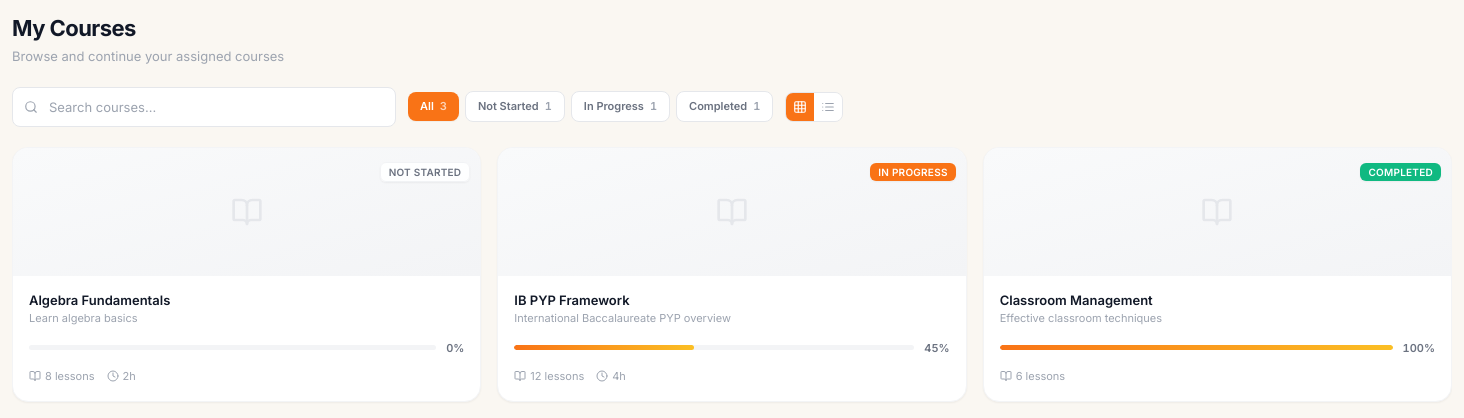
Test: MyCoursesPage › status filter buttons › shows only "Classroom Management" after clicking the Completed filter
The image size is (1464, 418).
Expected: the heading "Algebra Fundamentals" is shown, 29,292 -> 170,308
Click the button "Completed1": [725, 107] box 676,91 -> 773,122
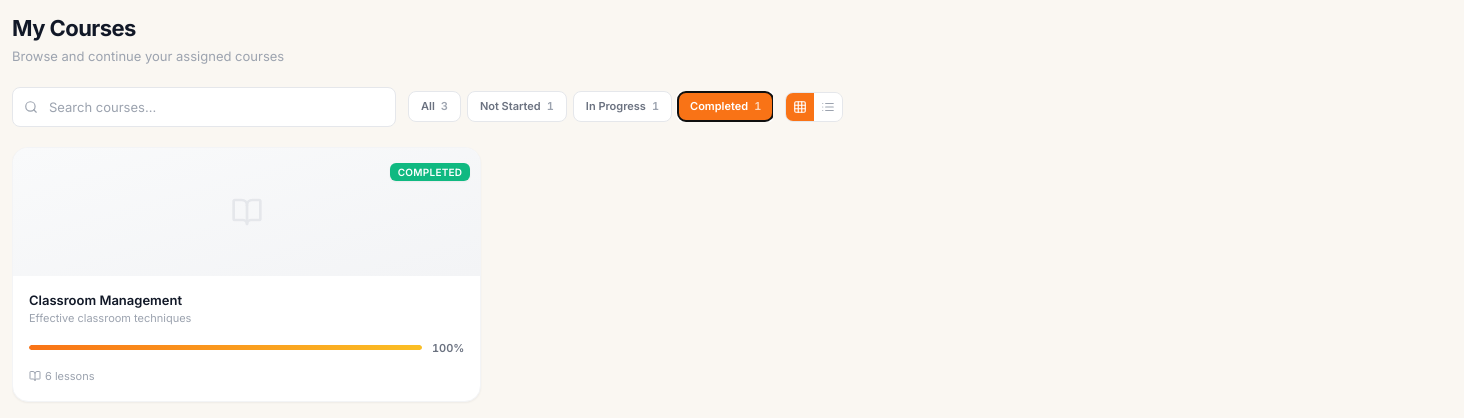
Expected: the heading "Classroom Management" is shown, 29,292 -> 182,308
Expected: the button "Algebra Fundamentals" is gone
Expected: the button "IB PYP Framework" is gone
